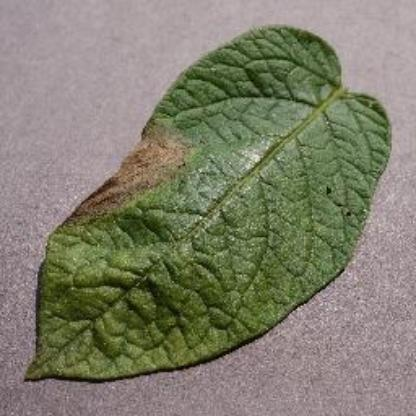Late-Blight: (24, 20, 396, 382)
